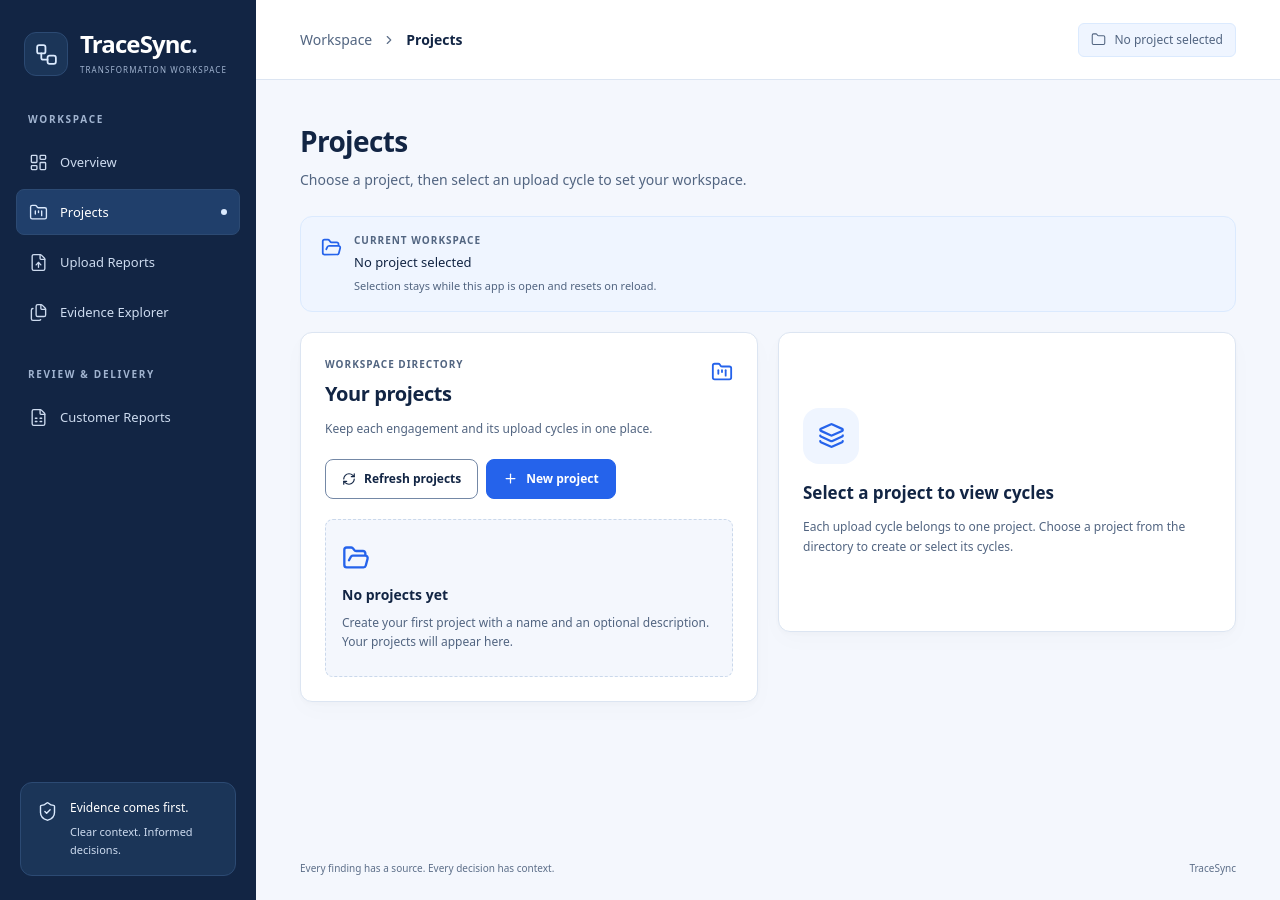
Projects and upload cycles › does not duplicate a created row already returned by a concurrent refresh
The image size is (1280, 900).
Check: the heading "No projects yet" is shown, box [342,584,448,605]
Click the button "New project".
click(551, 479)  # box [486,459,616,499]
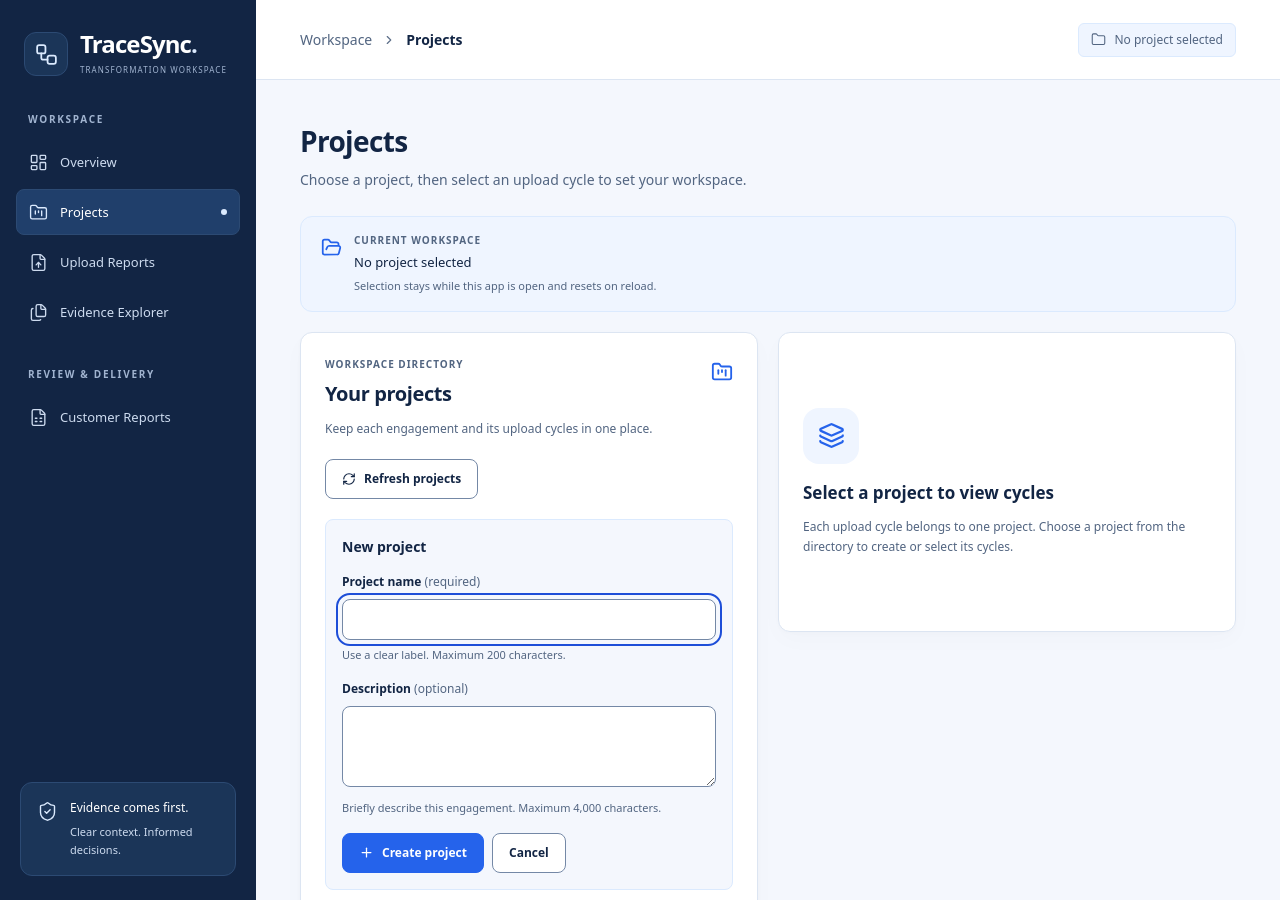
Type "Synthetic Alpha" into the field labelled "Project name".
click(529, 620); type("Synthetic Alpha")  # box [342,599,716,640]
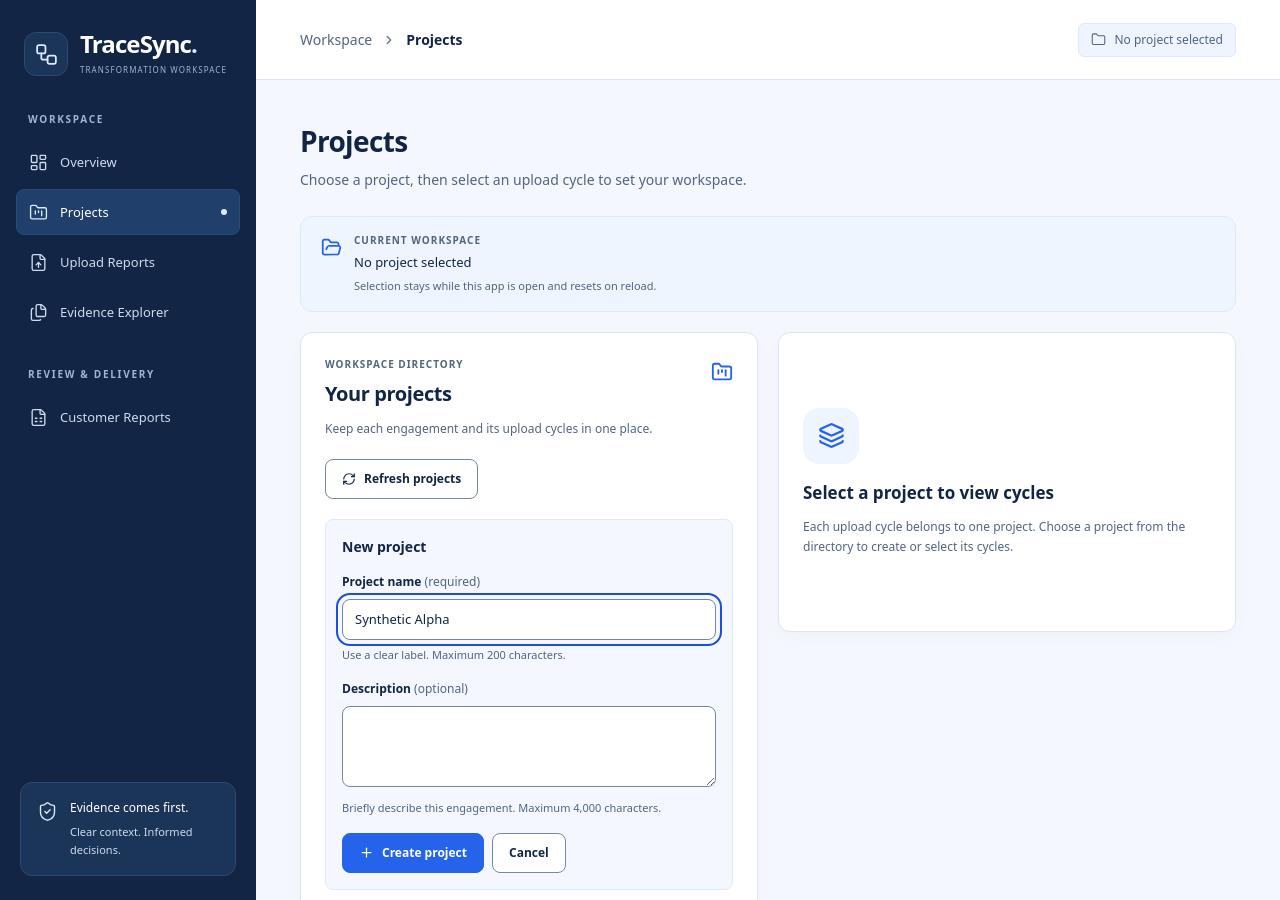
Click the button "Refresh projects".
click(402, 479)  # box [325,459,478,499]
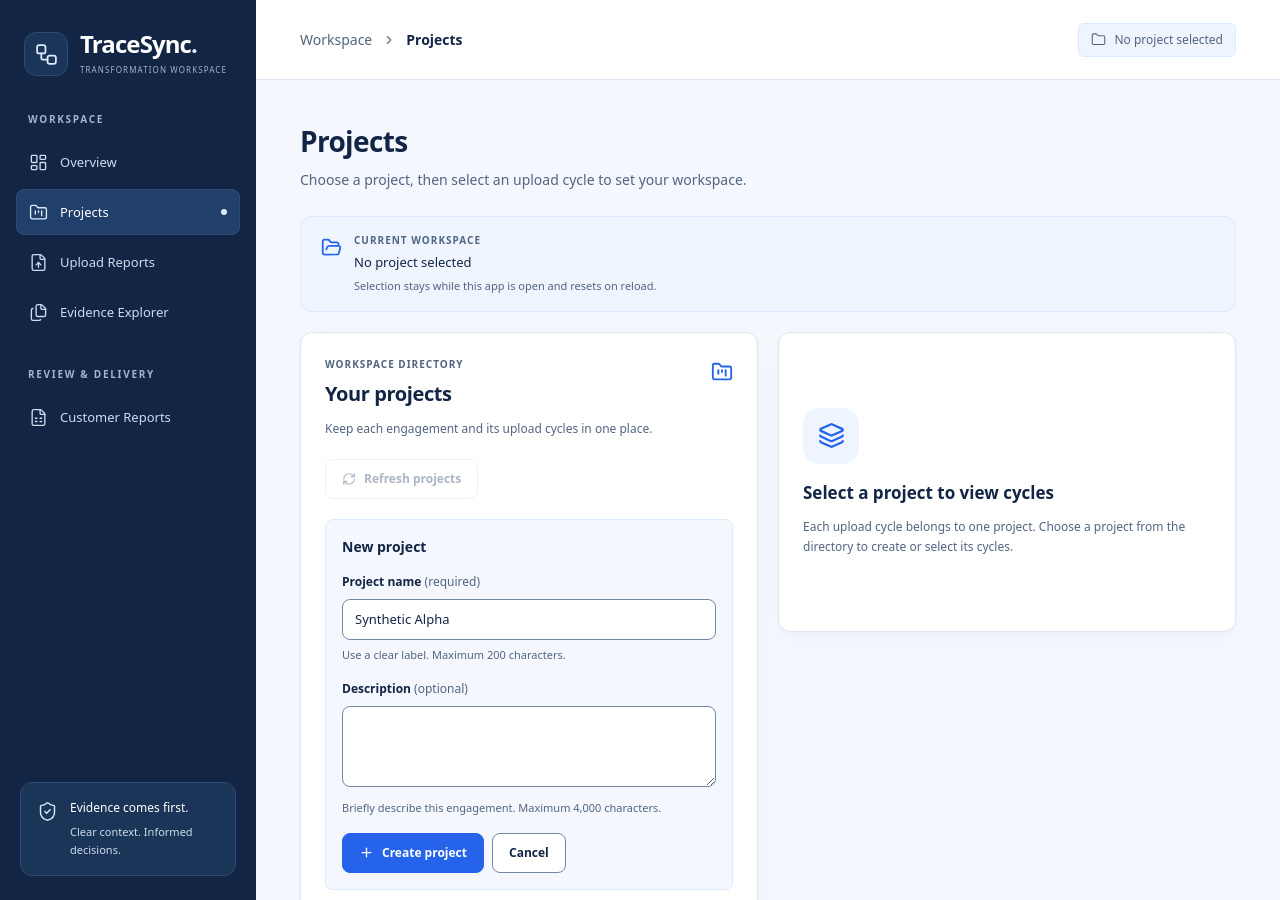
Click the button "Create project".
click(413, 852)  # box [342,832,484,872]
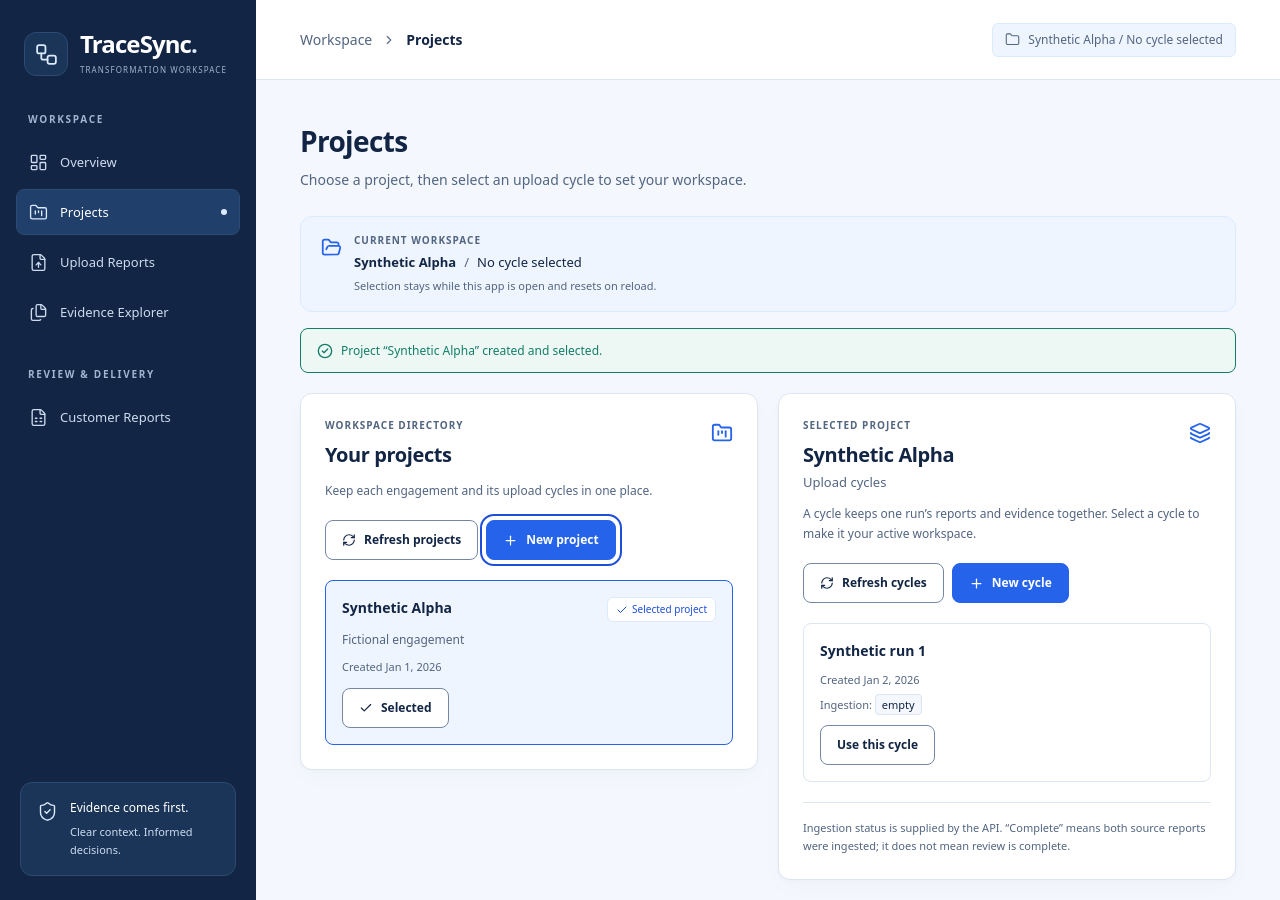
Check: the number of headings "Synthetic Alpha" is 1, box [342,597,452,620]
